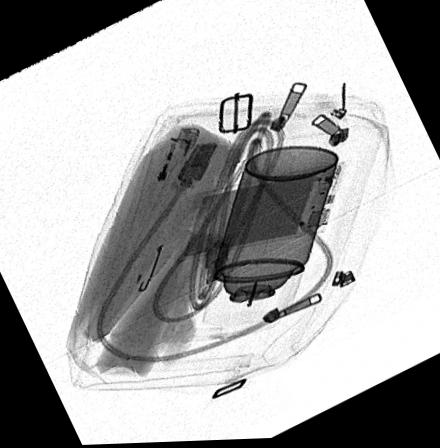Lighter: (152, 125, 201, 196)
Powerbank: (175, 161, 346, 262)
Sprayer: (200, 147, 338, 326)
